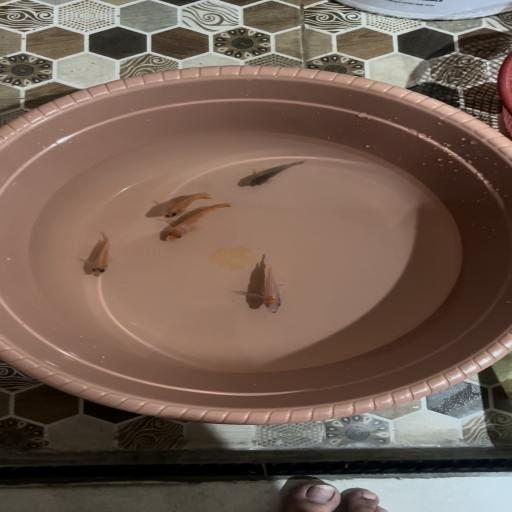nila: (158, 201, 237, 247), (243, 259, 292, 317), (76, 230, 124, 280), (244, 160, 310, 190), (156, 191, 217, 220)
